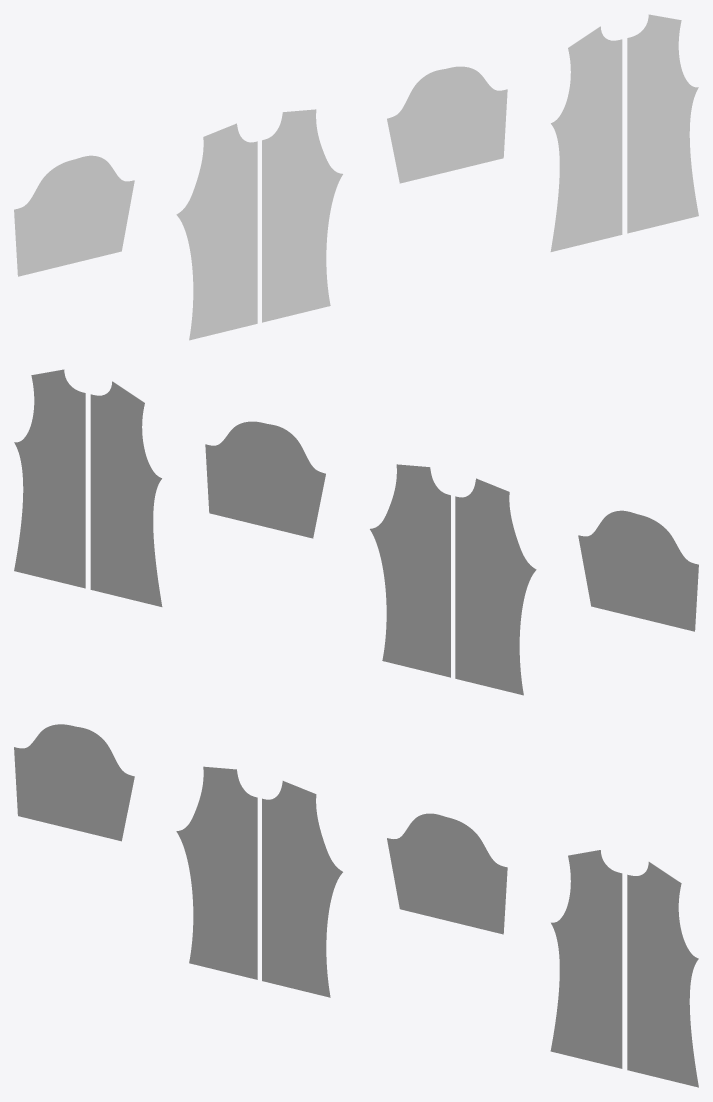
File: TshirtTest Unwrap.obj
The picture shows the model from 3 angles, top to bottom: view 1: azimuth 30°, elevation 25°; view 2: azimuth 150°, elevation 25°; view 3: azimuth 330°, elevation 25°; orthographic projection.
Size of the model in its own units: 1.92 by 0.5716 by 0.
